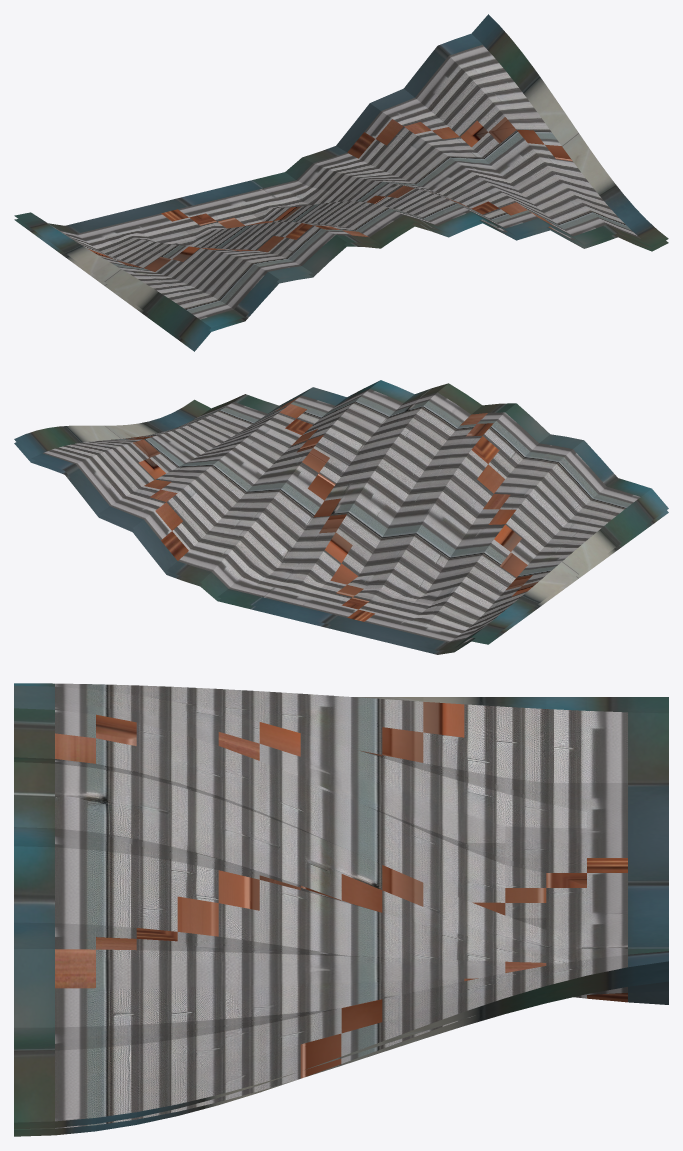
File: Wreckage_BentPanel.fbx
3 renders of one model, top to bottom at view 1: azimuth 30°, elevation 25°; view 2: azimuth 150°, elevation 25°; view 3: azimuth 270°, elevation 25°, orthographic. The views are drawn at different scales.
Visible parts, largest first — view 1: Wreckage_BentPanel; view 2: Wreckage_BentPanel; view 3: Wreckage_BentPanel.
Part boxes in pixels (x1,y1,x2,y2): Wreckage_BentPanel: (14, 14, 668, 351); Wreckage_BentPanel: (14, 380, 668, 654); Wreckage_BentPanel: (14, 683, 668, 1136).
Size of the model in its own units: 2.2 by 0.498 by 1.45.
3 materials, 3 textured.
